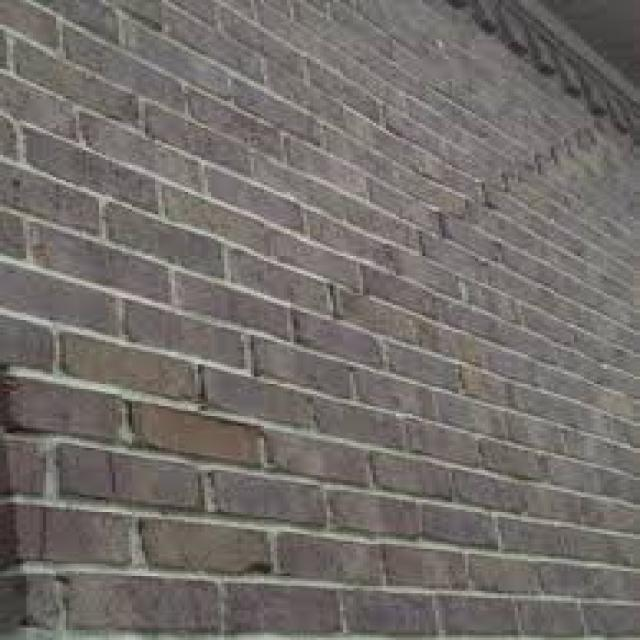Crack: (112, 118, 617, 443)
